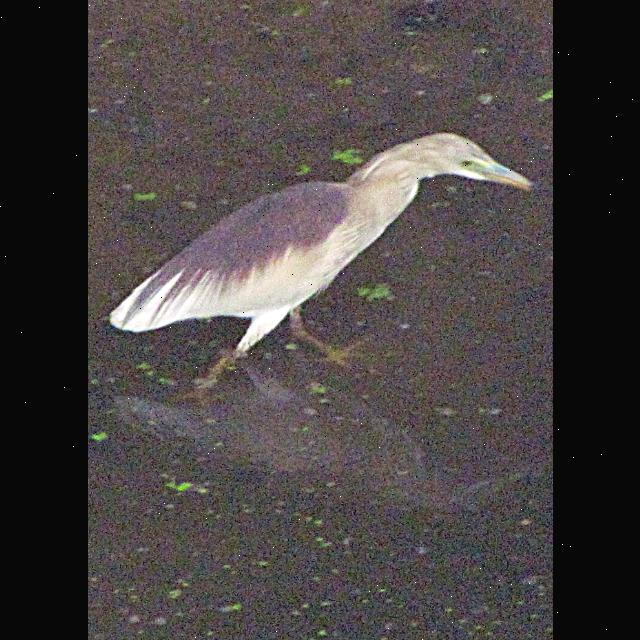heron: (98, 121, 542, 397)
